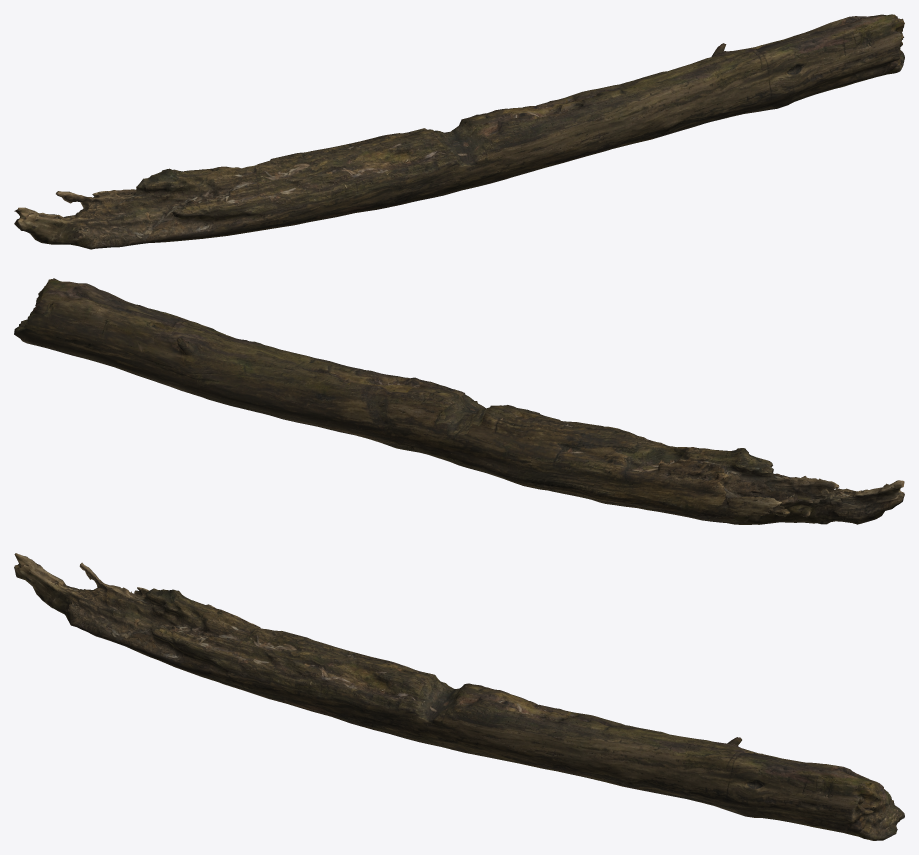
The model's file is fallen_trunk.glb.
The picture shows the model from 3 angles, top to bottom: view 1: azimuth 30°, elevation 25°; view 2: azimuth 150°, elevation 25°; view 3: azimuth 330°, elevation 25°; orthographic projection.
Parts seen in each view (by area): view 1: fallen_trunk; view 2: fallen_trunk; view 3: fallen_trunk.
Boxes of the visible parts, <box> form: fallen_trunk: <box>14,14,904,249</box>; fallen_trunk: <box>14,278,904,524</box>; fallen_trunk: <box>14,553,904,840</box>.
Size of the model in its own units: 3.05 by 0.2895 by 0.2768.
1 material, 1 textured.
